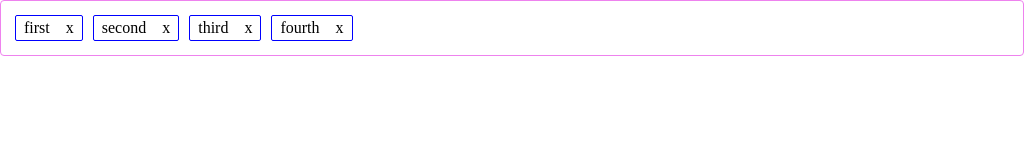
Test case: TagsInput component › should handle remove tag by x button properly
Click the button named "delete tag".
click(70, 28)  # box [66,19,74,36]
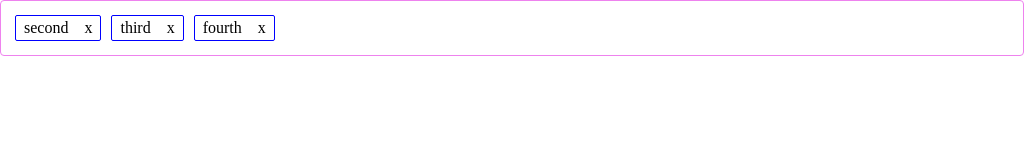
Expected: the text "second" is shown, [24,19,68,36]
Now the text "first" is gone
